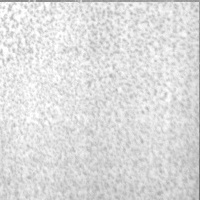pitted_surface: (0, 2, 199, 200)
scratches: (23, 1, 37, 128), (74, 1, 84, 141)
